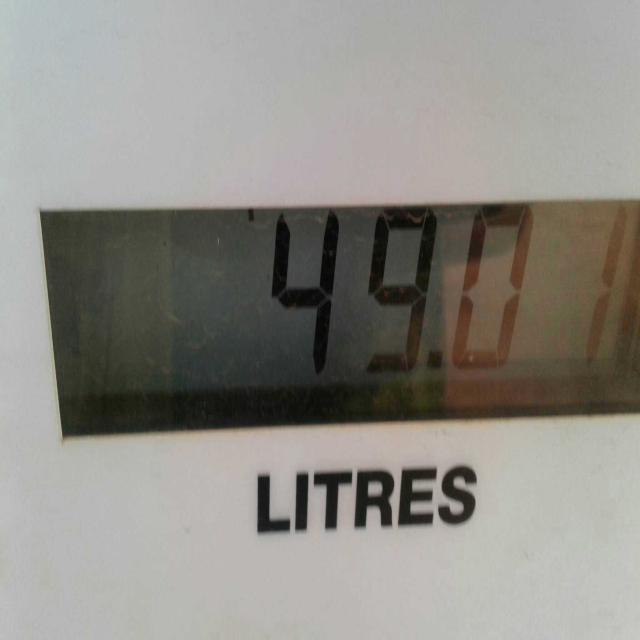.: (430, 349, 444, 370)
0: (452, 214, 526, 376)
4: (273, 217, 340, 391)
9: (369, 206, 429, 369)
